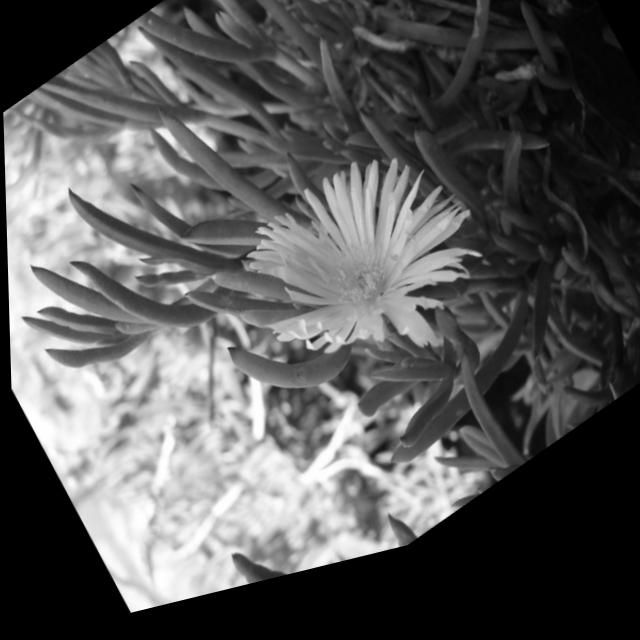Flower: (219, 100, 523, 455)
